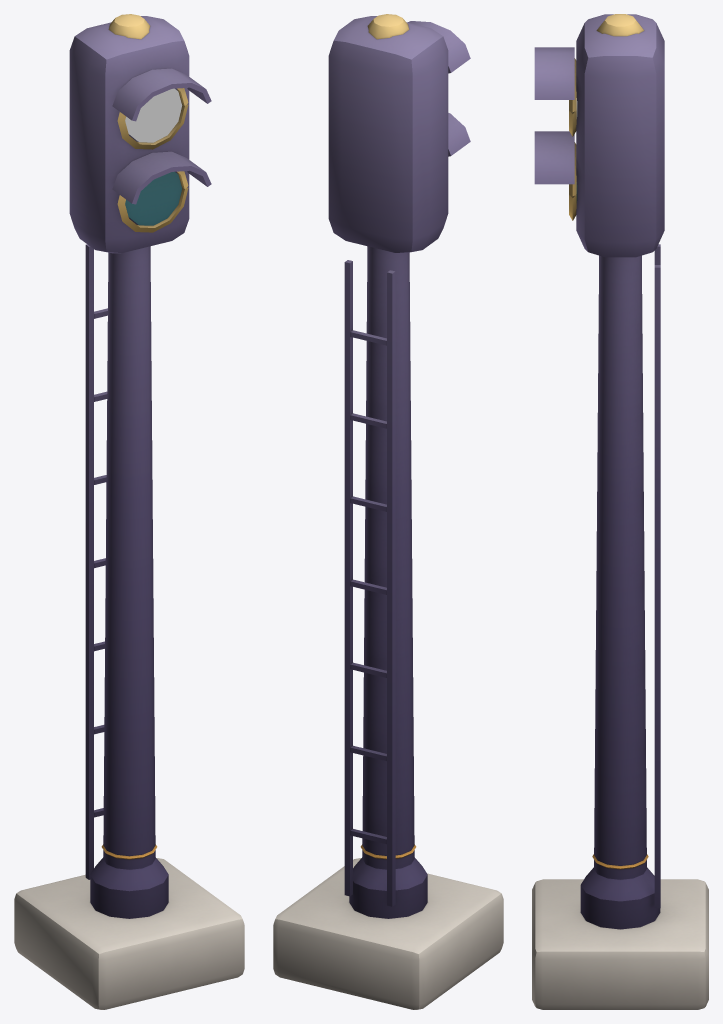
The model's file is depot_signal.fbx.
3 views of the same model, side by side, from view 1: azimuth 30°, elevation 25°; view 2: azimuth 150°, elevation 25°; view 3: azimuth 270°, elevation 25° (orthographic).
Parts seen in each view (by area): view 1: depot_signal, depot_signal_lamp_glow; view 2: depot_signal; view 3: depot_signal.
Boxes of the visible parts, x1,y1,x2,y2 form: depot_signal: (14, 14, 244, 1009); depot_signal_lamp_glow: (125, 88, 182, 142); depot_signal: (273, 14, 503, 1009); depot_signal: (532, 14, 708, 1009).
Size of the model in its own units: 200 by 1200 by 200.
2 materials, 1 textured.
